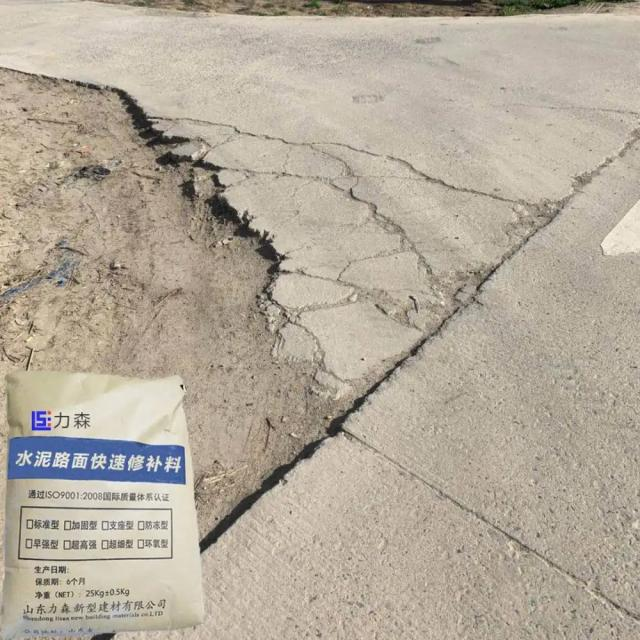Pothole: (0, 67, 344, 505)
